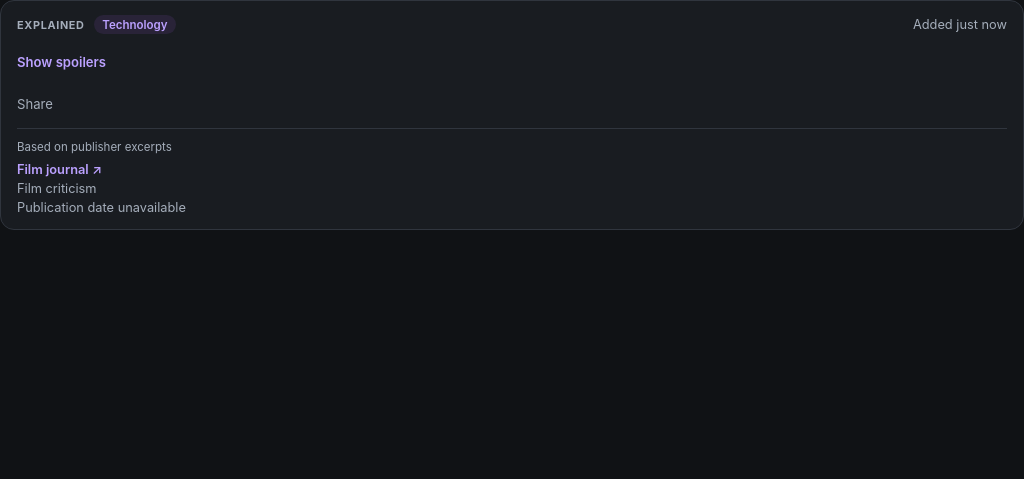
Test: opens generated discussion by default while respecting spoiler protection (true)
Expected: the text "hello from the test feed" is not shown
Expected: the text "One interpretation of the scene." is not shown
Step 1. Click the button "Show spoilers" → (62, 62), box [17,44,106,80]
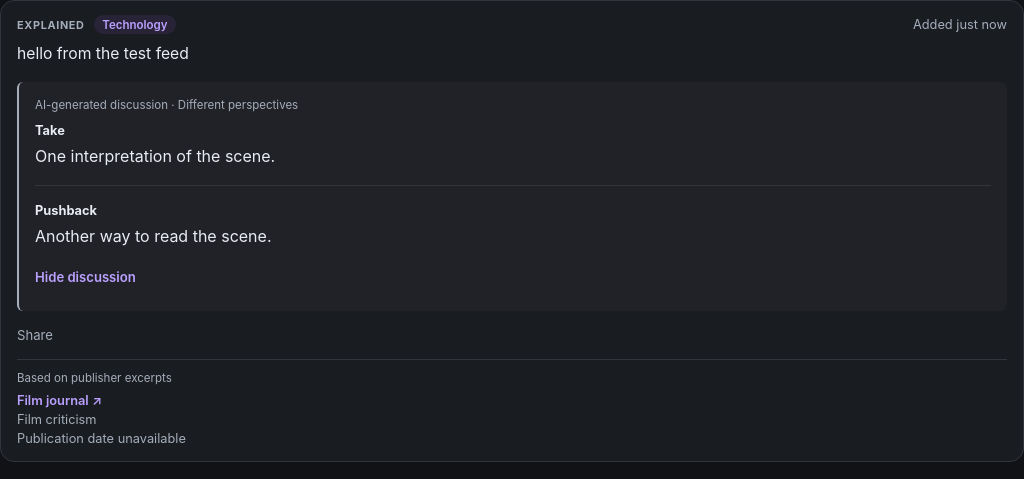
Expected: the text "hello from the test feed" is shown, [17,44,189,63]
Expected: the text "AI-generated discussion · Different perspectives" is shown, [35,98,298,112]
Expected: the text "One interpretation of the scene." is shown, [35,146,275,166]
Step 2. Click the button "Hide discussion" → (85, 277), box [35,259,136,295]
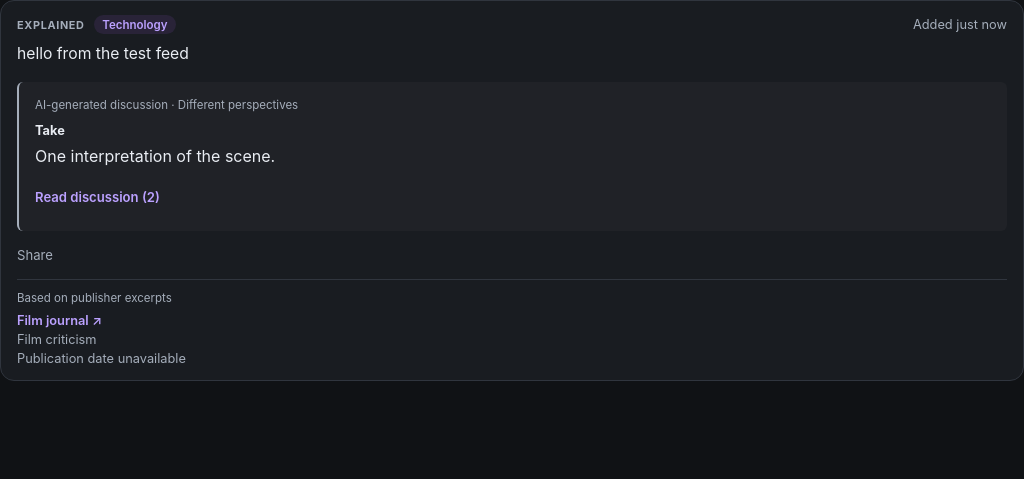
Expected: the text "Another way to read the scene." is gone
Step 3. Click the button "Read discussion (2)" → (97, 197), box [35,179,160,215]
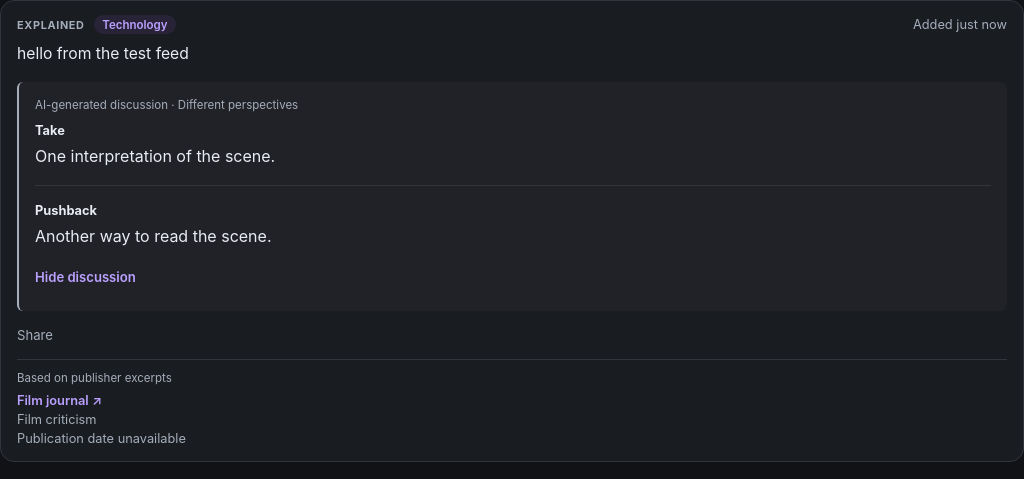
Expected: the text "Another way to read the scene." is shown, [35,226,272,246]
